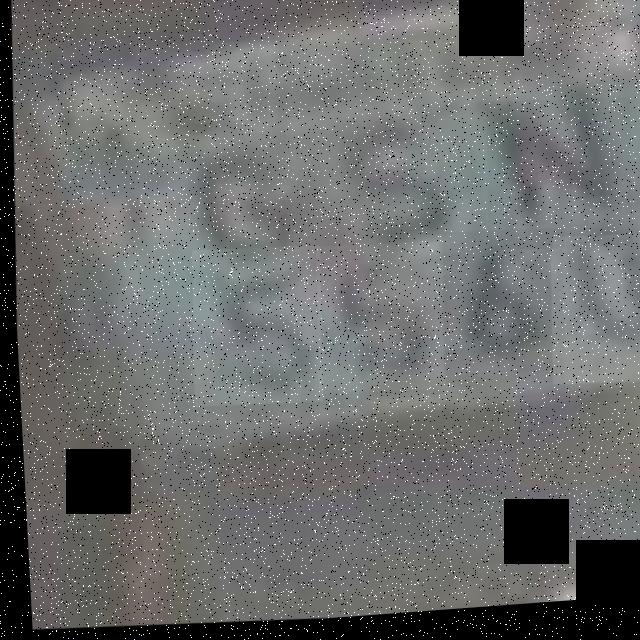0: (544, 239, 640, 396)
5: (183, 245, 323, 413), (307, 244, 444, 402)
6: (434, 232, 567, 411)
N: (479, 101, 634, 263)
S: (334, 118, 466, 276)
